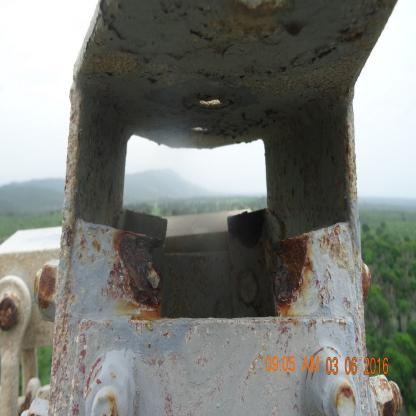Grado3: (116, 228, 176, 304), (267, 224, 313, 309)
